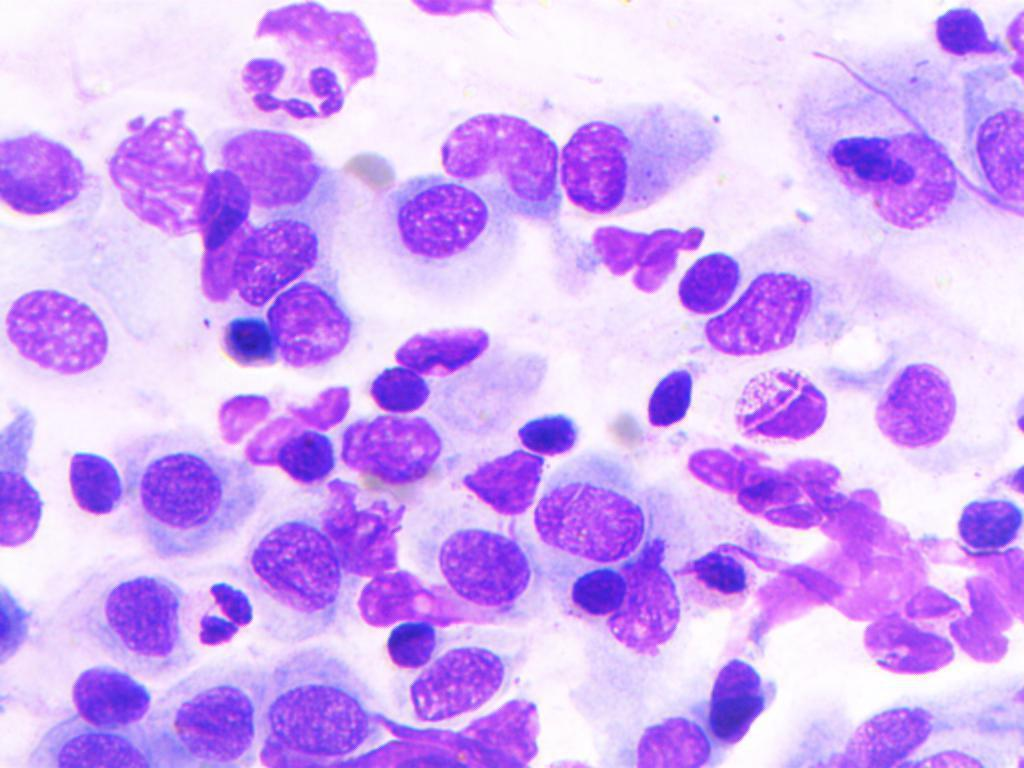artifact: (781, 549, 1024, 682), (692, 448, 907, 537), (331, 697, 571, 768), (98, 109, 216, 248), (243, 0, 396, 67), (450, 428, 550, 522), (732, 370, 832, 458), (199, 172, 257, 299), (322, 499, 410, 576), (389, 329, 513, 381), (356, 572, 466, 624)
epithelial: (798, 103, 962, 251), (558, 83, 722, 222), (119, 431, 263, 561), (3, 273, 125, 411), (239, 513, 348, 651), (432, 98, 564, 205), (78, 561, 194, 679), (699, 261, 834, 357), (533, 459, 653, 563), (870, 317, 967, 443), (257, 653, 379, 752), (797, 690, 947, 768), (377, 177, 492, 277), (400, 642, 532, 724), (0, 114, 99, 223), (960, 60, 1024, 228), (220, 131, 342, 216), (231, 221, 342, 314), (153, 669, 256, 768), (336, 415, 460, 489), (433, 529, 534, 612), (53, 657, 166, 729), (591, 224, 713, 290), (271, 277, 360, 365), (606, 554, 682, 656), (0, 429, 48, 587), (41, 713, 164, 768), (658, 245, 747, 315), (621, 707, 714, 768), (63, 438, 127, 515)
erythrocyte: (337, 148, 403, 194)
metaplastic: (704, 656, 772, 747), (951, 482, 1024, 554), (637, 364, 701, 443), (361, 357, 437, 421), (681, 543, 758, 606), (927, 1, 1000, 66), (269, 432, 343, 489), (567, 566, 632, 623), (214, 316, 280, 371), (379, 616, 443, 672), (519, 414, 587, 462)
neutrophil: (227, 53, 353, 126), (209, 391, 348, 450), (197, 569, 264, 656)
